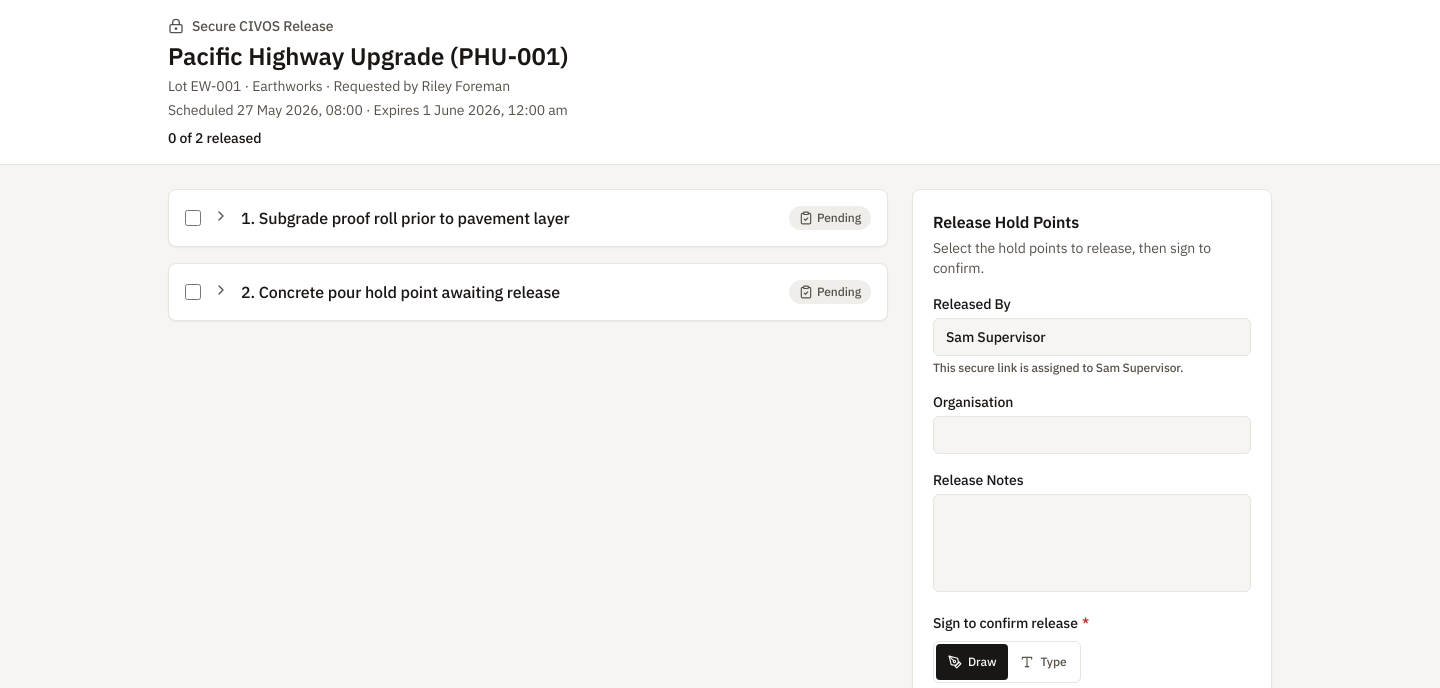
Test case: PublicHoldPointBatchReleasePage › lazily fetches and renders a hold point evidence package when expanded
This screenshot has width=1440, height=688.
expect the text "1. Subgrade proof roll prior to pavement layer" is shown: met, box [241,208,570,228]
Click the button "1. Subgrade proof roll prior to pavement layer" at (495, 218), box [213,206,777,230]
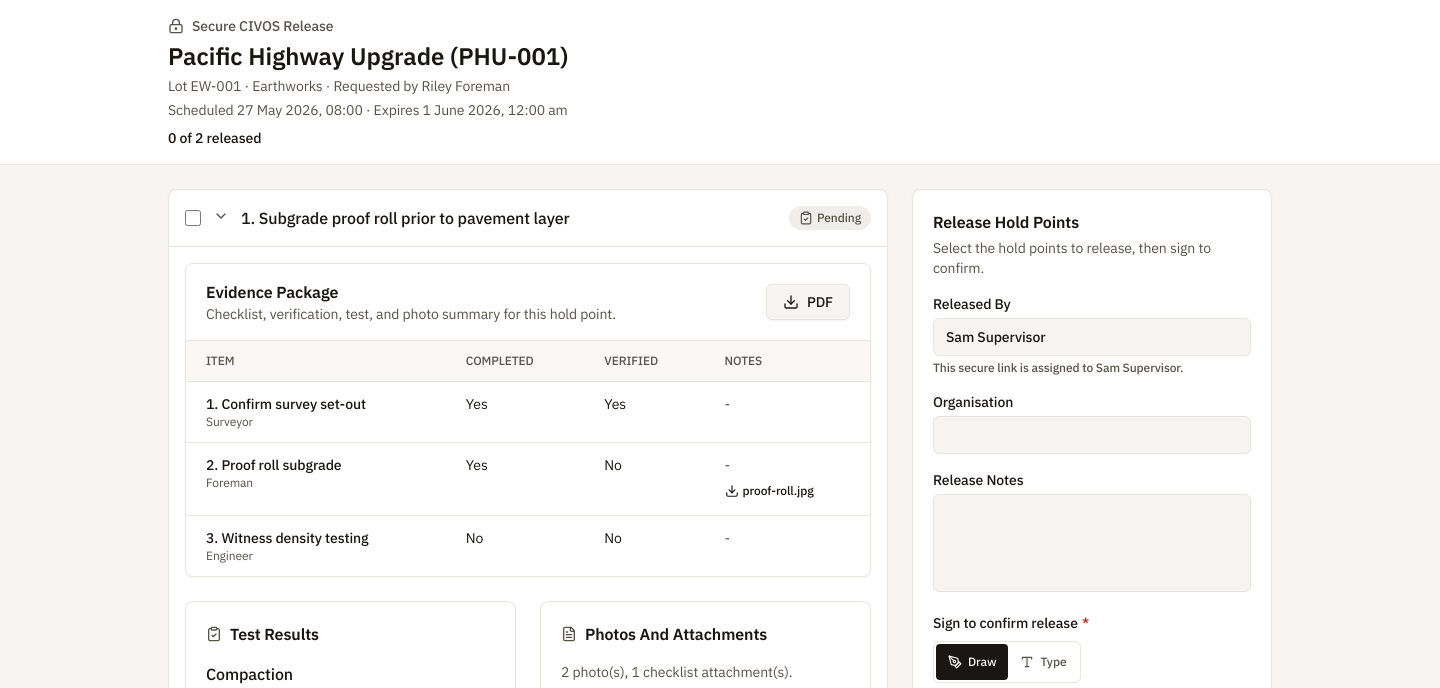
expect the heading "Evidence Package" is shown: met, box [206,282,338,302]
expect the text "1. Confirm survey set-out" is shown: met, box [206,395,366,413]
